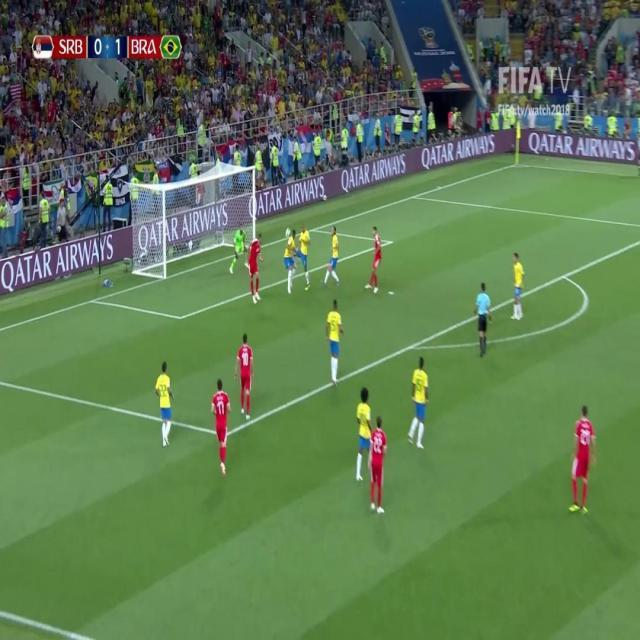ball: (284, 227, 291, 240)
goalkeeper: (230, 225, 245, 276)
player: (567, 403, 599, 513), (208, 374, 234, 476), (368, 412, 392, 514), (406, 353, 431, 450), (324, 298, 347, 392), (353, 386, 375, 483), (232, 333, 255, 422), (154, 359, 176, 448), (365, 222, 387, 293), (508, 248, 527, 322), (246, 232, 266, 302), (296, 220, 313, 290), (283, 225, 299, 296), (324, 223, 341, 287)
referee: (473, 278, 492, 356)
